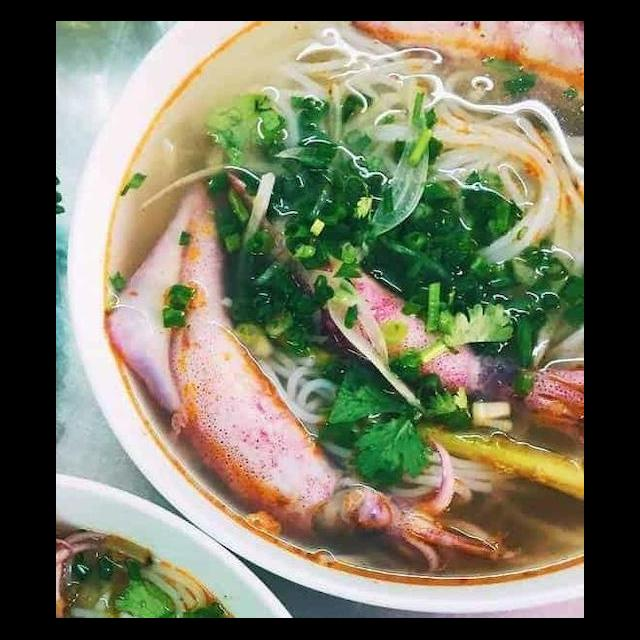bun: (255, 22, 584, 278), (247, 328, 513, 512)
muc: (97, 166, 518, 580), (218, 166, 584, 450)
